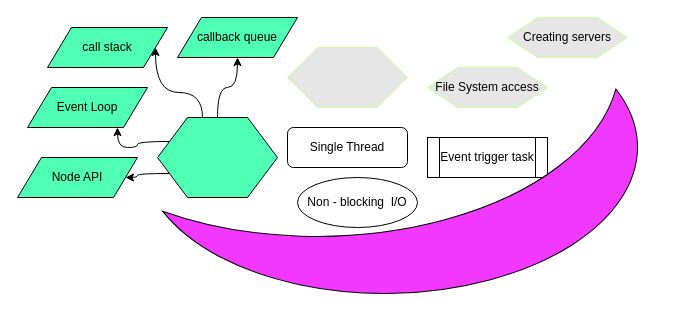
This 692x335 diagram has some shape labels left out. The centre of each missing label's shape, as x and y in pixels:
"Asynchronous" belongs at (x=217, y=157).
"Loading External module" belongs at (x=347, y=77).
